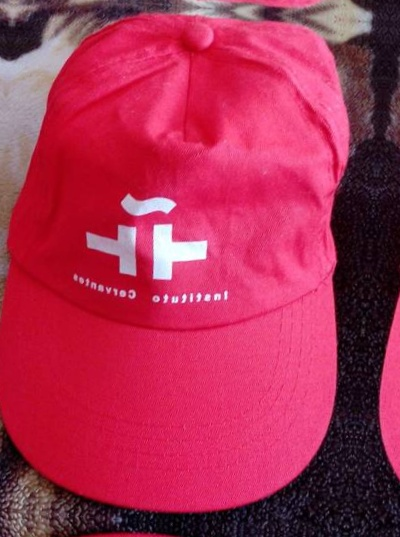Hat: (0, 0, 373, 520), (364, 25, 400, 537), (19, 0, 400, 22), (0, 0, 10, 489), (0, 526, 327, 537)
